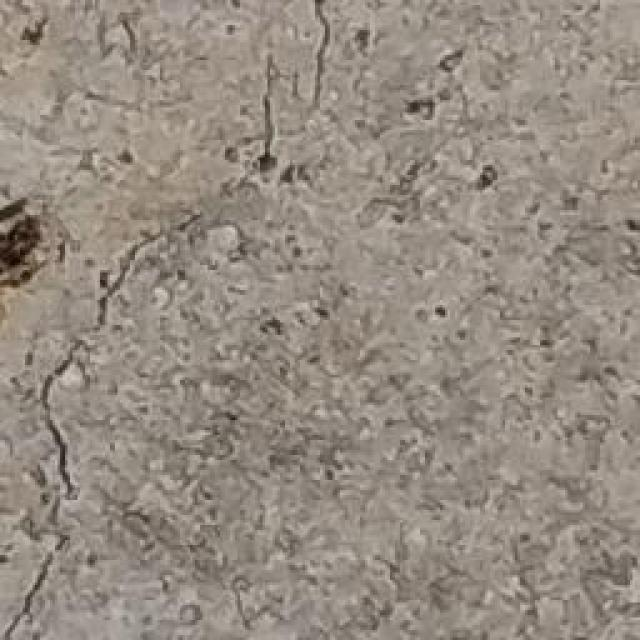Longitudinal: (0, 0, 353, 640)
